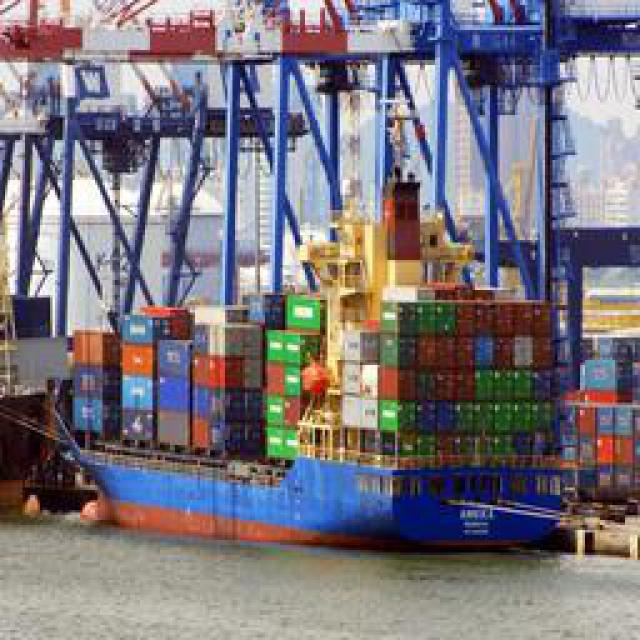Ship: (56, 430, 584, 558)
